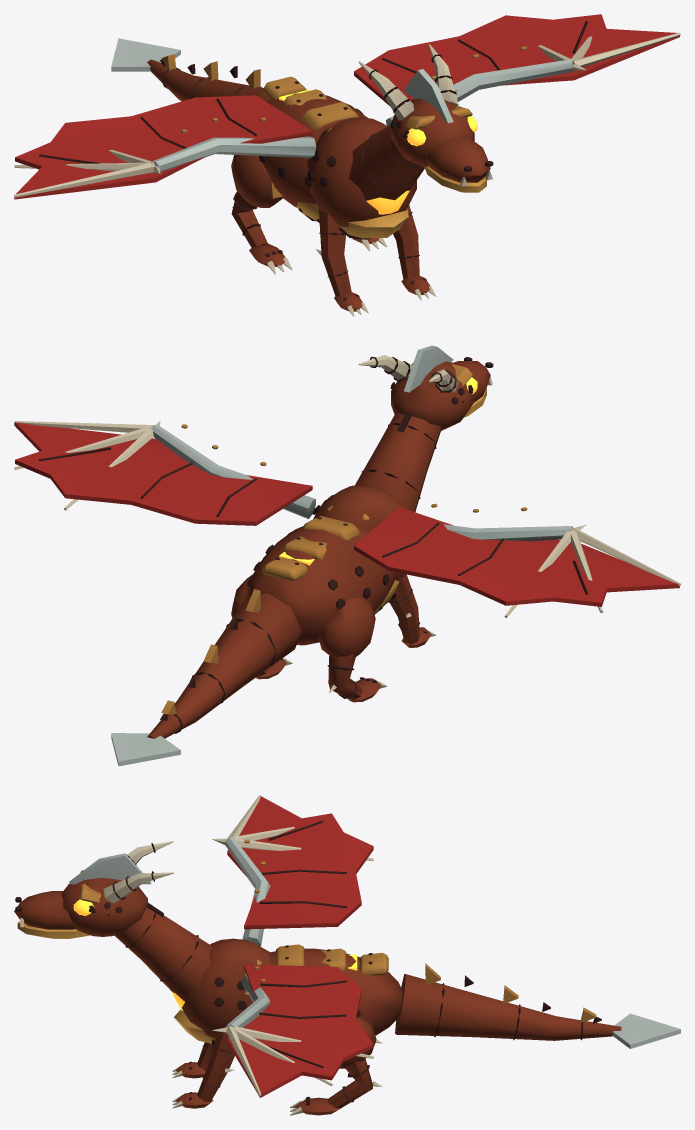
The model's file is emberdrake.glb.
The picture shows the model from 3 angles, top to bottom: view 1: azimuth 30°, elevation 25°; view 2: azimuth 150°, elevation 25°; view 3: azimuth 270°, elevation 25°; orthographic projection. The views are drawn at different scales.
Visible parts, largest first — view 1: Wing_membrane.001, Wing_membrane, Chest, Neck, Foreleg, Torso, Wing_arm.001, Crown, Snout, Tail_body, Back_plate, Wing_arm (+16 smaller); view 2: Wing_membrane.001, Wing_membrane, Torso, Tail_body, Neck, Crown, Chest, Thigh.001, Back_plate, Wing_finger, Wing_arm, Wing_finger.001 (+7 smaller); view 3: Wing_membrane, Wing_membrane.001, Tail_body, Neck, Chest, Crown, Torso, Snout, Back_plate, Foreleg, Wing_finger, Tail_fin (+12 smaller).
Boxes of the visible parts, x1=… form: Wing_membrane.001: x1=14, y1=95, x2=312, y2=199; Wing_membrane: x1=354, y1=14, x2=679, y2=105; Chest: x1=307, y1=117, x2=416, y2=226; Neck: x1=348, y1=125, x2=424, y2=200; Foreleg: x1=318, y1=205, x2=419, y2=296; Torso: x1=262, y1=93, x2=367, y2=207; Wing_arm.001: x1=151, y1=136, x2=316, y2=173; Crown: x1=391, y1=98, x2=474, y2=167; Snout: x1=426, y1=136, x2=490, y2=182; Tail_body: x1=147, y1=59, x2=270, y2=101; Back_plate: x1=262, y1=76, x2=358, y2=131; Wing_arm: x1=386, y1=59, x2=573, y2=126; Wing_membrane.001: x1=354, y1=507, x2=679, y2=606; Wing_membrane: x1=14, y1=422, x2=312, y2=525; Torso: x1=246, y1=518, x2=395, y2=645; Tail_body: x1=147, y1=593, x2=301, y2=738; Neck: x1=355, y1=413, x2=440, y2=511; Crown: x1=391, y1=361, x2=474, y2=430; Chest: x1=313, y1=484, x2=405, y2=580; Thigh.001: x1=318, y1=597, x2=375, y2=657; Back_plate: x1=262, y1=506, x2=369, y2=581; Wing_finger: x1=14, y1=421, x2=153, y2=510; Wing_arm: x1=150, y1=424, x2=315, y2=519; Wing_finger.001: x1=504, y1=528, x2=680, y2=617; Wing_membrane: x1=227, y1=964, x2=373, y2=1097; Wing_membrane.001: x1=227, y1=796, x2=373, y2=929; Tail_body: x1=395, y1=974, x2=621, y2=1040; Neck: x1=114, y1=907, x2=212, y2=1001; Chest: x1=182, y1=938, x2=270, y2=1037; Crown: x1=61, y1=878, x2=147, y2=936; Torso: x1=269, y1=948, x2=402, y2=1035; Snout: x1=14, y1=891, x2=75, y2=929; Back_plate: x1=257, y1=944, x2=388, y2=975; Foreleg: x1=197, y1=1032, x2=234, y2=1101; Wing_finger: x1=226, y1=1026, x2=373, y2=1096; Tail_fin: x1=612, y1=1013, x2=680, y2=1048.
Size of the model in its own units: 11.85 by 4.39 by 11.17.
